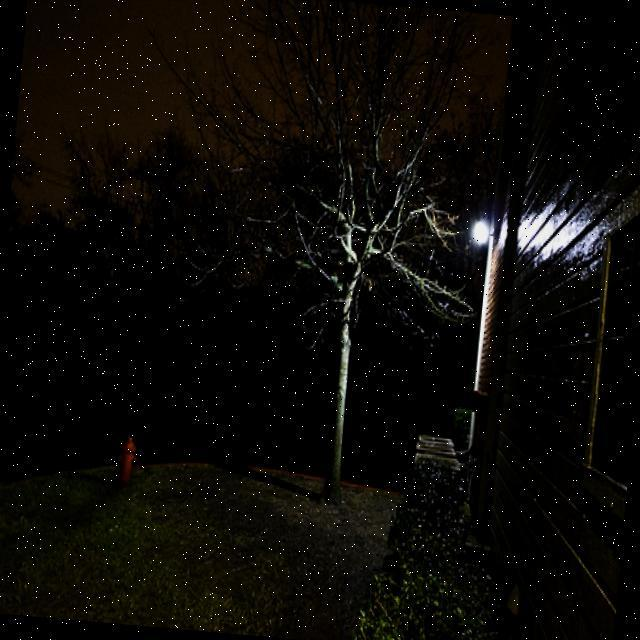fire_hydrant: (112, 432, 138, 486)
